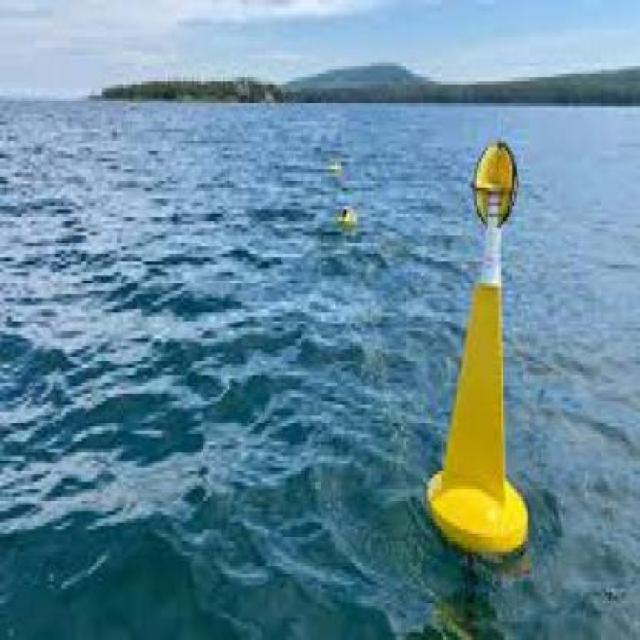buoy: (407, 122, 544, 579)
